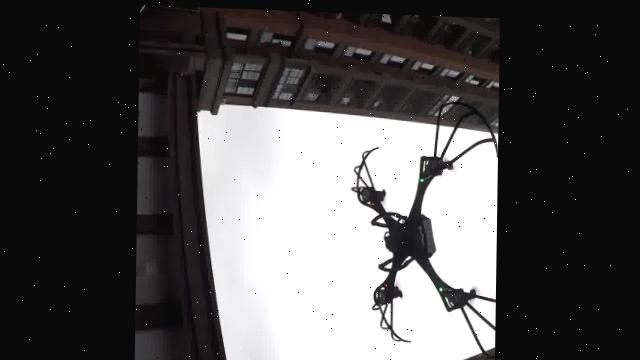drone: (336, 84, 499, 360)
